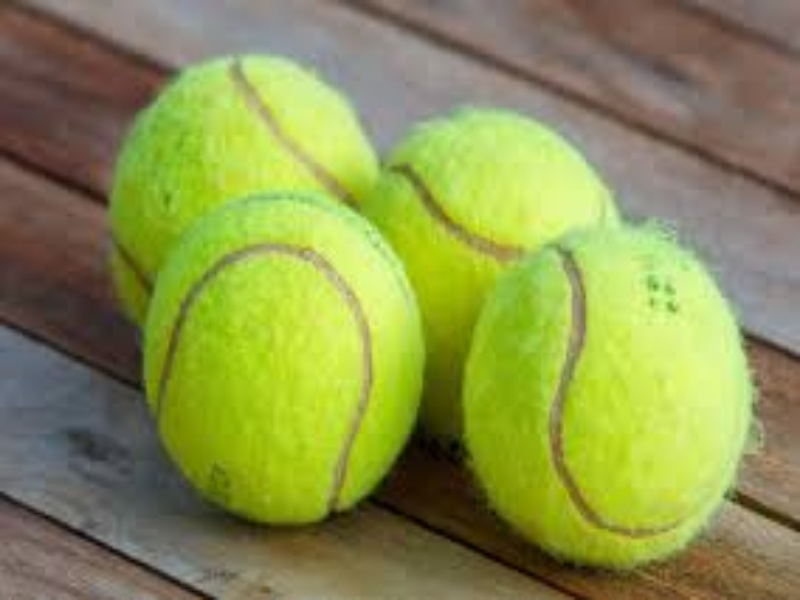tennis ball: (116, 184, 453, 508), (474, 234, 771, 562), (99, 44, 414, 323), (389, 95, 626, 394)
